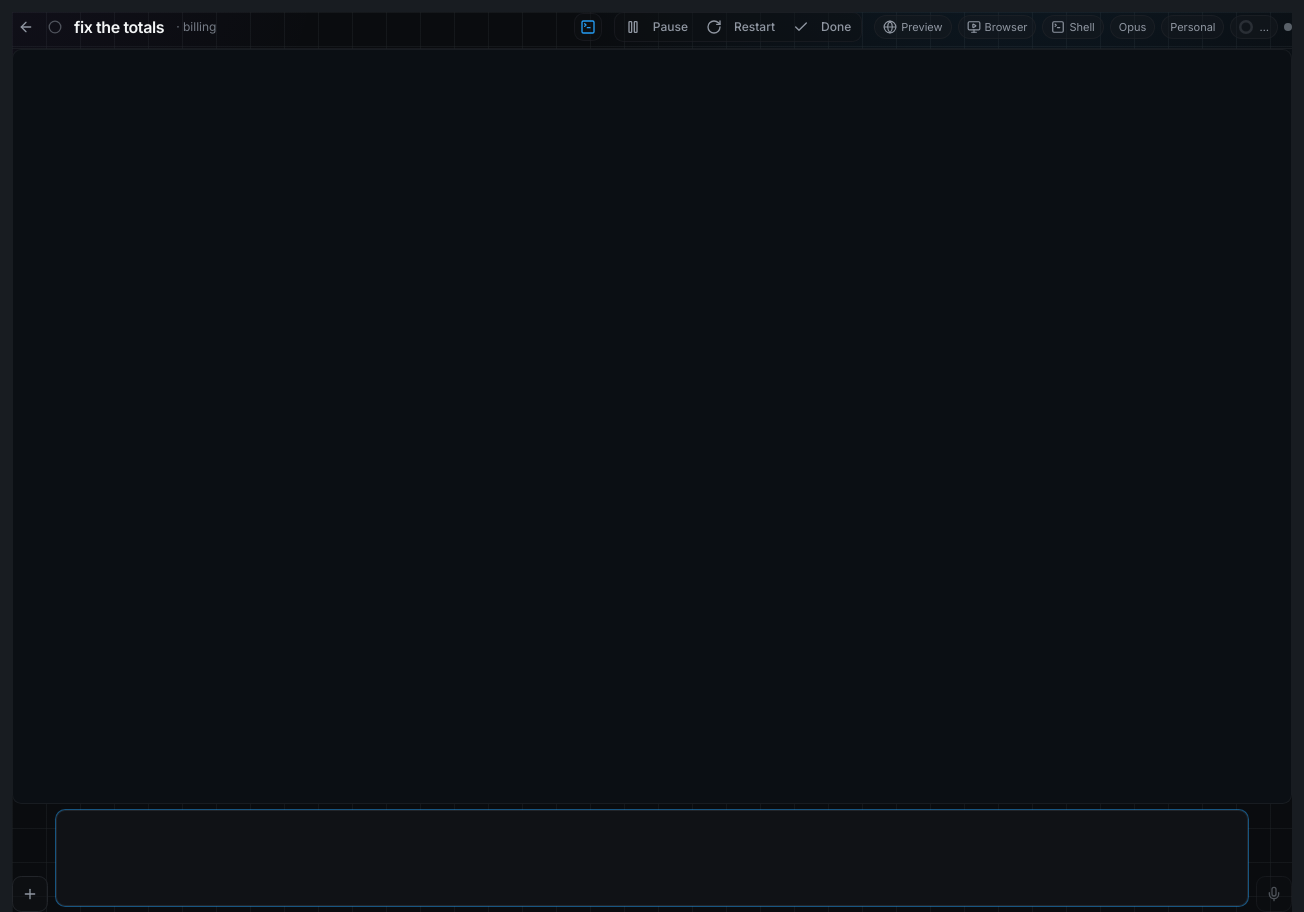
Test: CardTerminalView — the card bar › keeps both labels distinct after switching account — the menu never renames itself
This screenshot has width=1304, height=912.
Click the button with aria-label "Claude account" at coordinates (1193, 27), box [1161,15,1224,39]
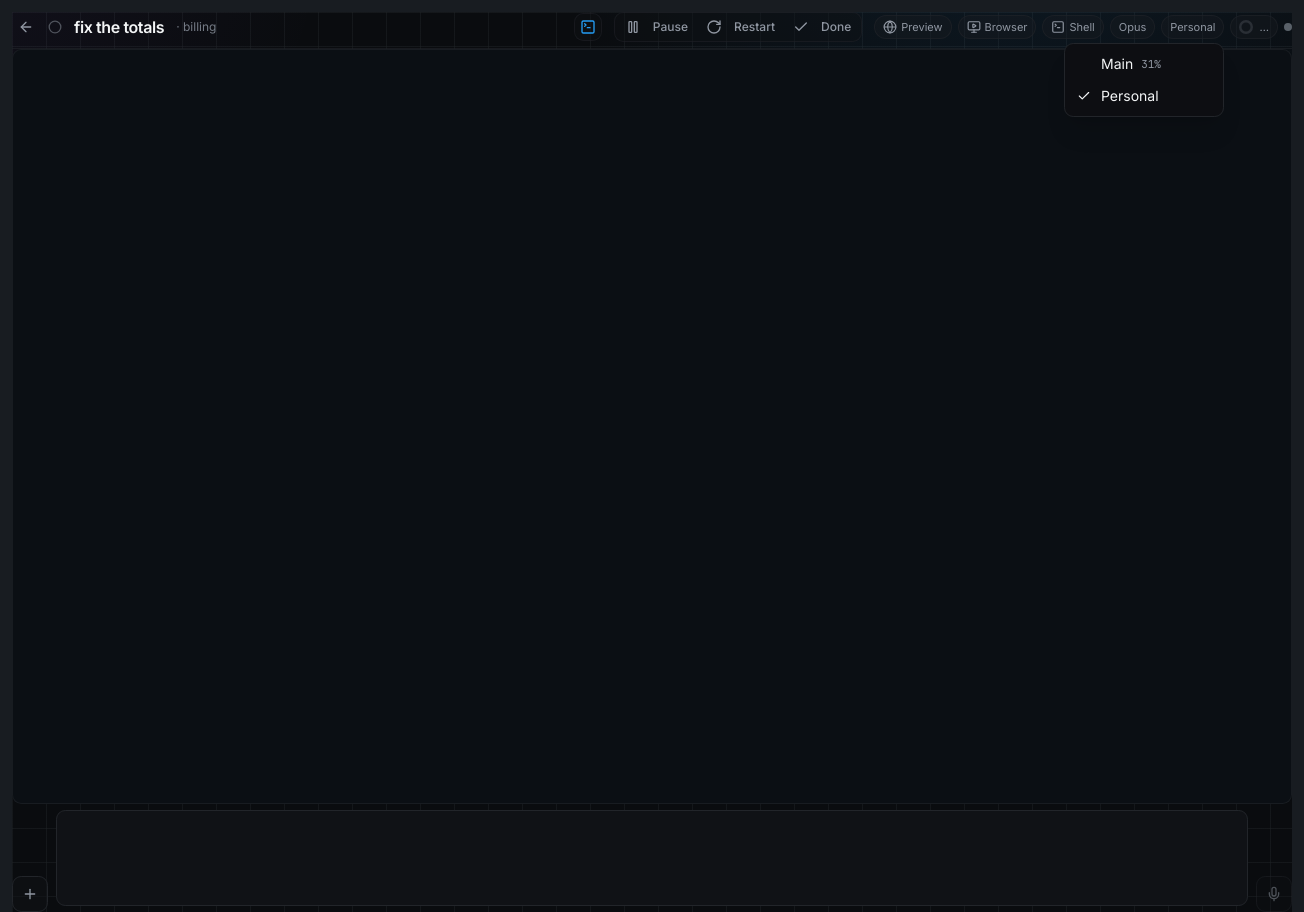
expect the menu item "Main 31%" is shown: met, box [1101,55,1161,72]
expect the menu item "Personal" is shown: met, box [1077,87,1159,104]
